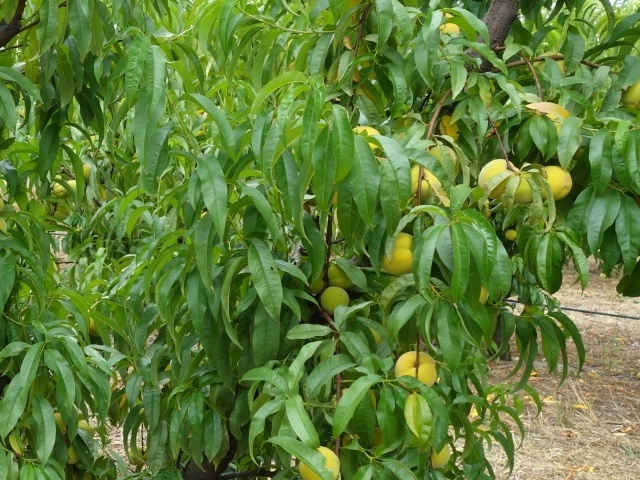peach: (393, 344, 440, 395), (407, 155, 445, 209), (383, 229, 424, 276), (478, 156, 517, 202), (352, 120, 391, 159), (298, 444, 341, 479), (537, 162, 574, 202), (317, 283, 350, 317), (322, 258, 355, 292), (423, 441, 453, 472)
